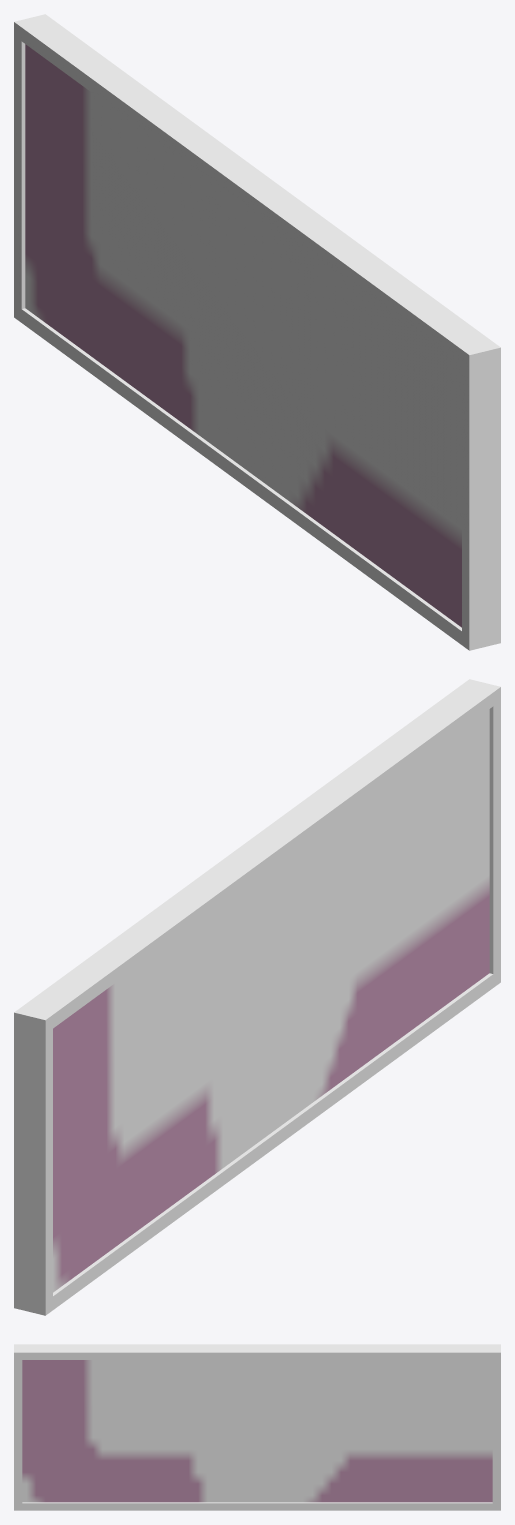
Rendered from Sign_Prawnshop.fbx.
3 renders of one model, top to bottom at view 1: azimuth 30°, elevation 25°; view 2: azimuth 150°, elevation 25°; view 3: azimuth 270°, elevation 25°, orthographic. The views are drawn at different scales.
Parts seen in each view (by area): view 1: Cube.588; view 2: Cube.588; view 3: Cube.588.
Part boxes in pixels (<box>): Cube.588: <box>14,14,500,650</box>; Cube.588: <box>14,679,500,1315</box>; Cube.588: <box>14,1344,500,1510</box>.
Size of the model in its own units: 11.83 by 106 by 296.
